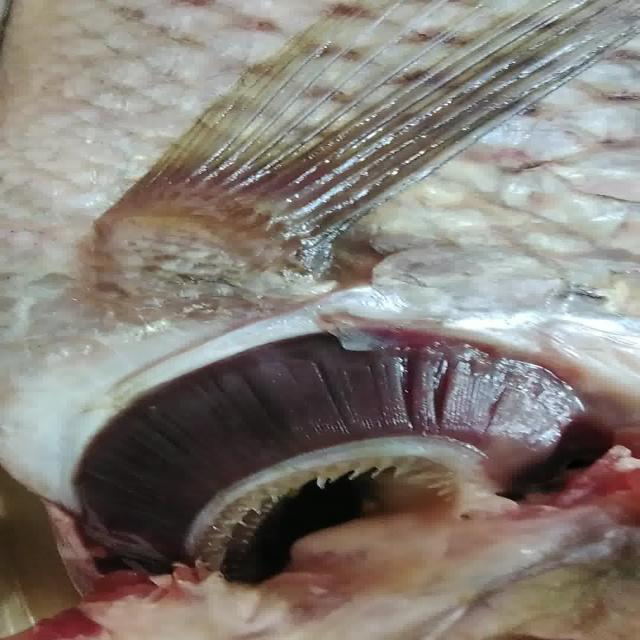Non-Fresh: (89, 318, 545, 493)
